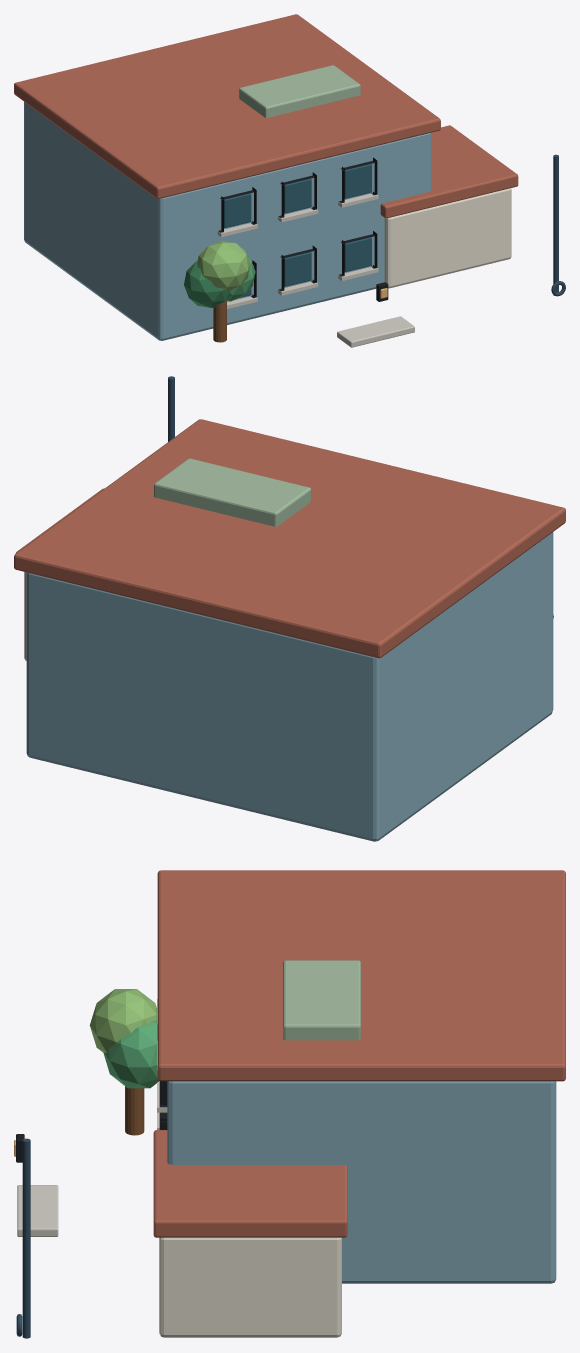
Rendered from RES_LUX_2x2_002.glb.
3 renders of one model, top to bottom at view 1: azimuth 30°, elevation 25°; view 2: azimuth 150°, elevation 25°; view 3: azimuth 270°, elevation 25°, orthographic. The views are drawn at different scales.
Visible parts, largest first — view 1: RES_LUX_2x2_002_Visual; view 2: RES_LUX_2x2_002_Visual; view 3: RES_LUX_2x2_002_Visual.
Boxes of the visible parts, x1,y1,x2,y2 form: RES_LUX_2x2_002_Visual: (14, 14, 565, 347); RES_LUX_2x2_002_Visual: (14, 376, 565, 841); RES_LUX_2x2_002_Visual: (14, 870, 565, 1338).
Size of what is drawn, in the model's own units: 3.7 by 1.67 by 3.47.
